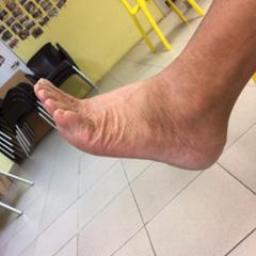Lateral View -Left Foot-: (16, 51, 255, 184)
